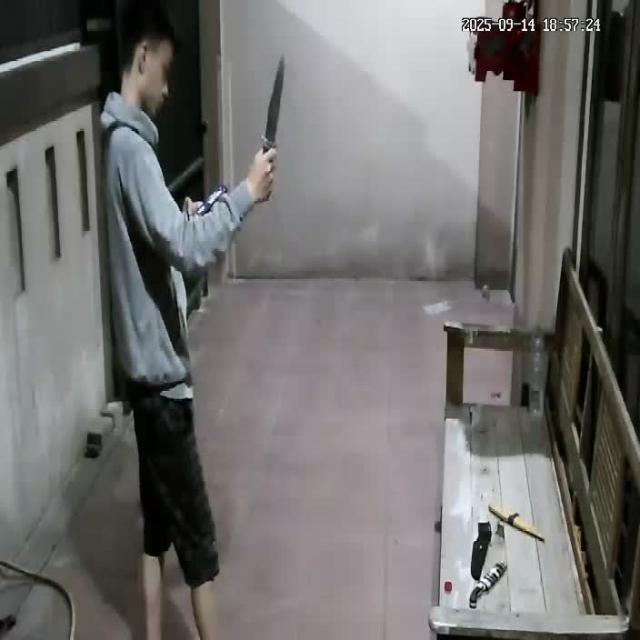senjata_tajam: (261, 52, 288, 150)
